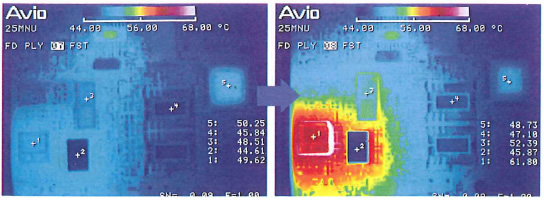componente_T: (290, 106, 394, 197), (402, 7, 434, 16), (131, 7, 159, 16)
